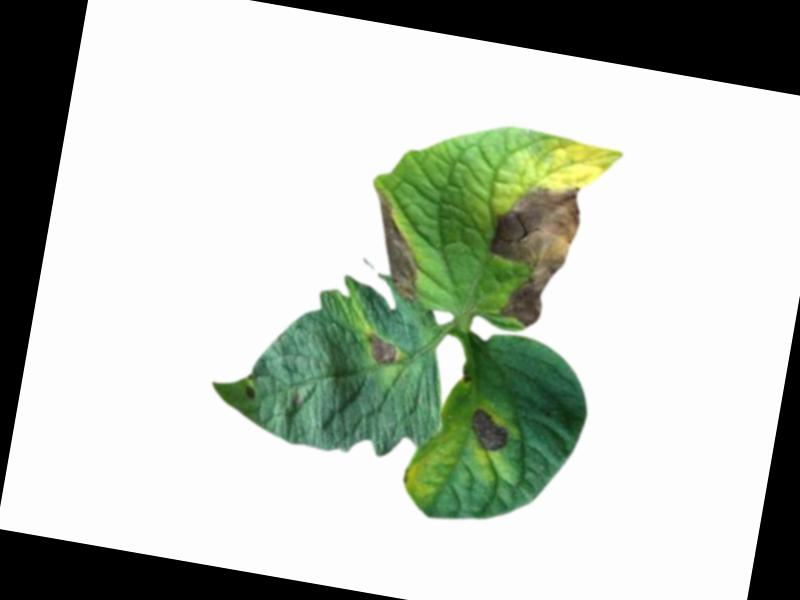Early_blight: (475, 173, 585, 335), (350, 190, 432, 302), (464, 405, 513, 455), (361, 331, 401, 368), (241, 383, 256, 401)
